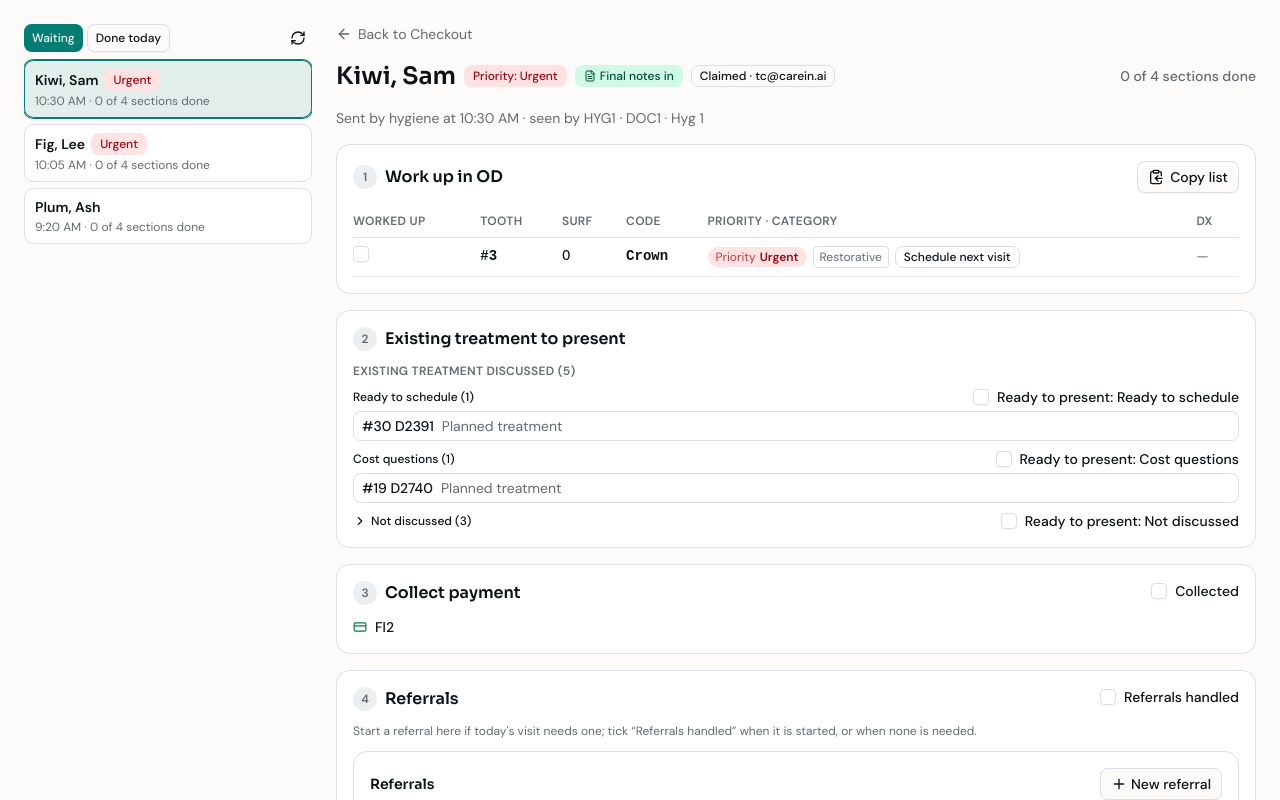
Scenario: CO-1 polish 1 — master-detail › choosing another patient swaps the workup in place and updates the address; the list is not fetched again
Expected: the heading with test id "workup-patient" reads "Kiwi, Sam", [336, 61, 456, 91]
Click the button with test id "workup-rail-row" that starts with "Fig, Lee".
click(60, 144)  # box [24, 124, 312, 182]
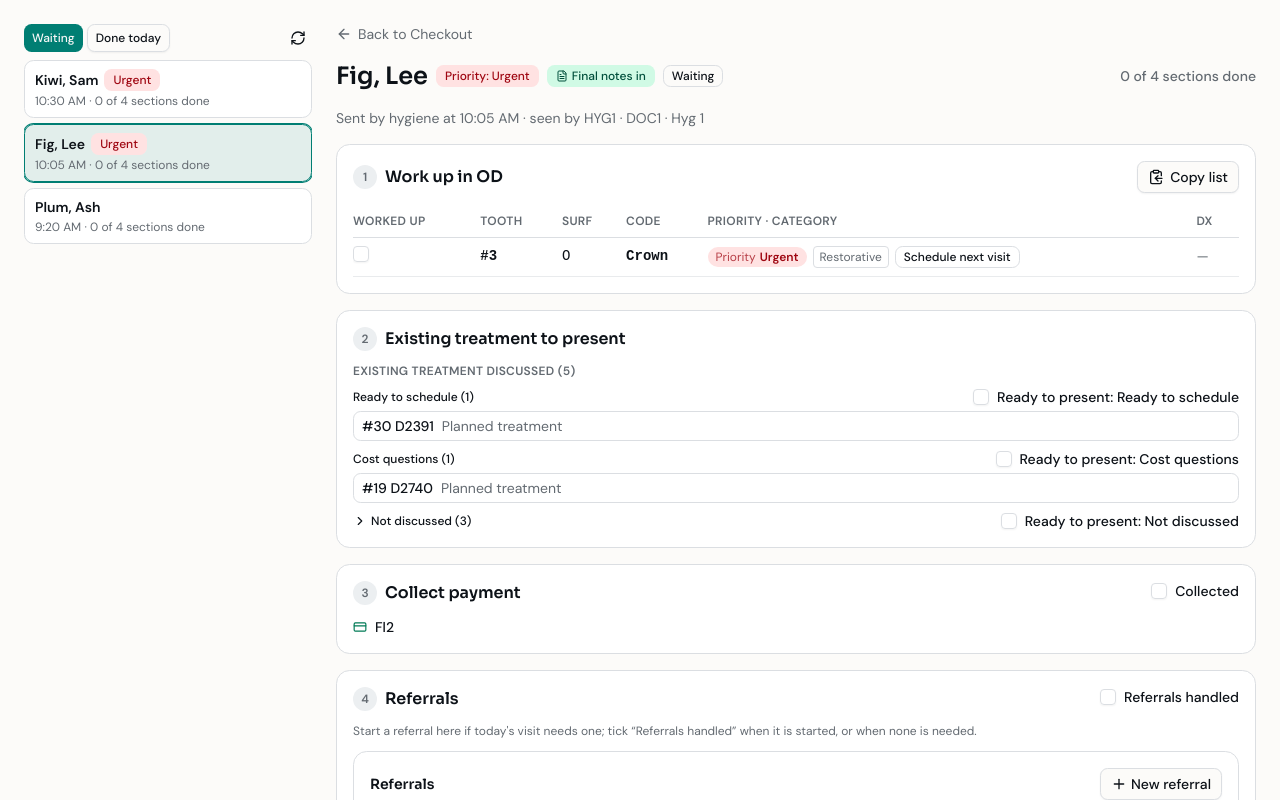
Expected: the heading with test id "workup-patient" reads "Fig, Lee", [336, 61, 428, 91]
